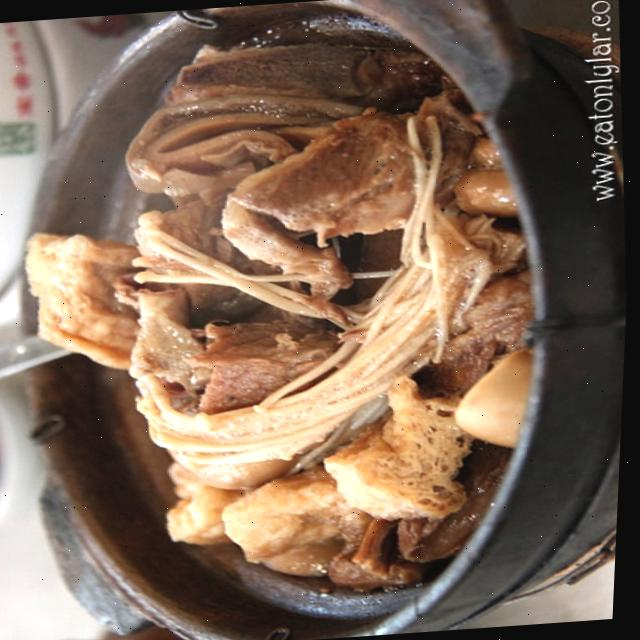汤锅炖物: (11, 18, 587, 624)
